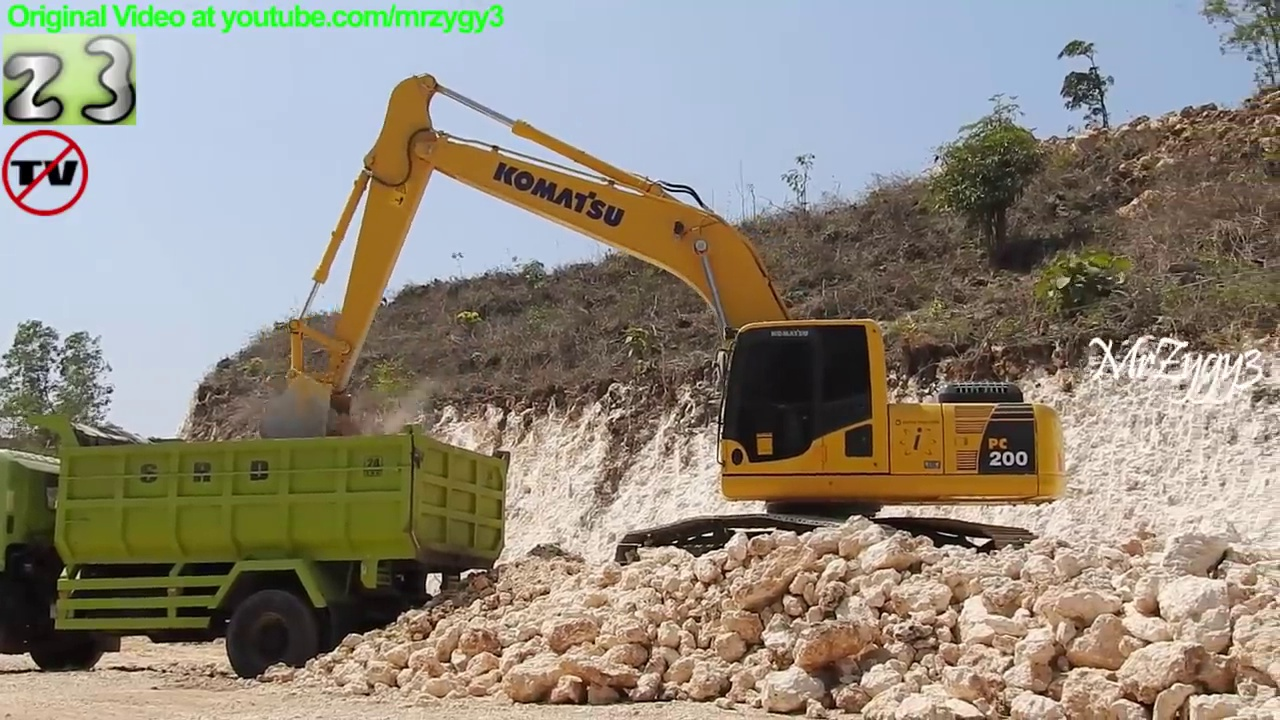excavator: (250, 65, 1078, 593)
truck: (1, 406, 517, 683)
